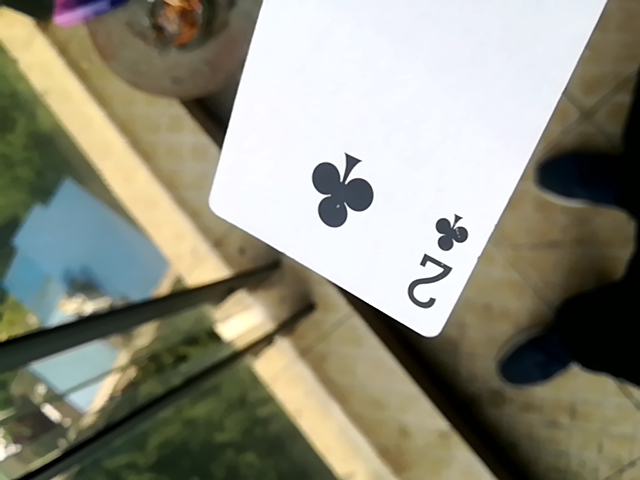mh 2: (201, 2, 623, 339)
